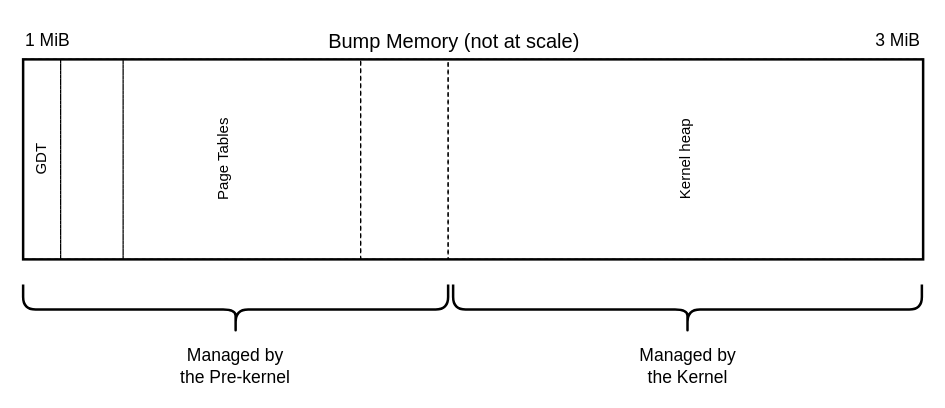
The diagram is 945 pixels wide and 408 high, and some of its shapes have lost their labels. The shapes that lost their labels are listed below. From the top down, each one's centre as x and y in pixels, then its label:
(x=91, y=158): Boot Info
(x=403, y=158): Kernel .bss
